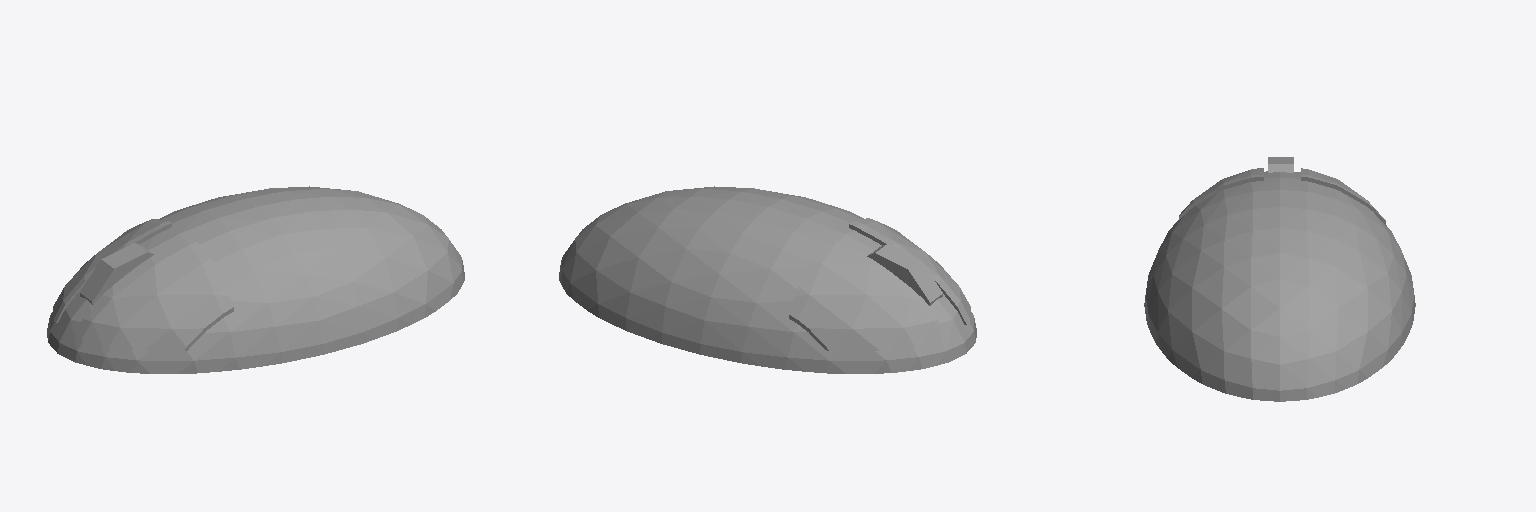
File: Mouse.obj
The picture shows the model from 3 angles: view 1: azimuth 30°, elevation 25°; view 2: azimuth 150°, elevation 25°; view 3: azimuth 270°, elevation 25°; orthographic projection.
Parts seen in each view (by area): view 1: Boolean_2, Boolean_4, Boolean_3, roulette; view 2: Boolean_2, Boolean_3, Boolean_4, roulette; view 3: Boolean_2, Boolean_4, Boolean_3.
Part boxes in pixels (bbox=[...]): Boolean_2: bbox=[47, 186, 464, 373]; Boolean_4: bbox=[73, 236, 233, 350]; Boolean_3: bbox=[53, 219, 171, 322]; roulette: bbox=[79, 243, 154, 304]; Boolean_2: bbox=[559, 186, 976, 373]; Boolean_3: bbox=[789, 238, 946, 350]; Boolean_4: bbox=[849, 218, 970, 324]; roulette: bbox=[867, 244, 942, 305]; Boolean_2: bbox=[1144, 171, 1415, 401]; Boolean_4: bbox=[1179, 168, 1263, 219]; Boolean_3: bbox=[1301, 168, 1385, 225].
Bounding box in the file's own units: 3.01 × 0.7112 × 1.78.